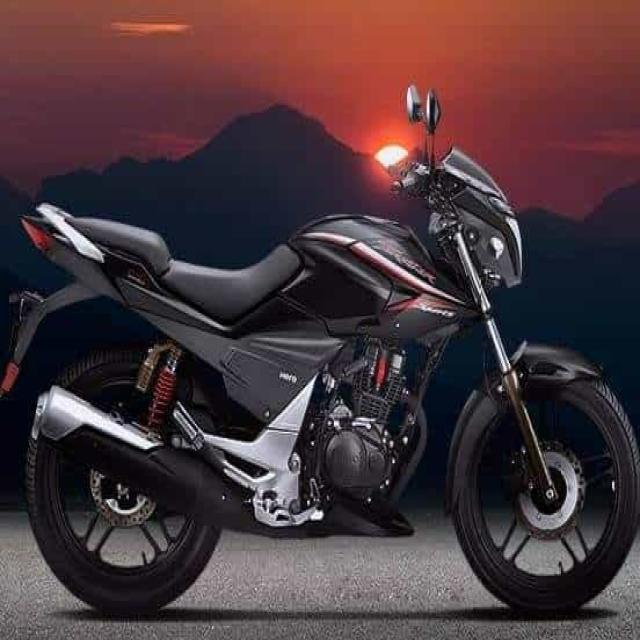MOTORCYCLE: (23, 147, 640, 605)
